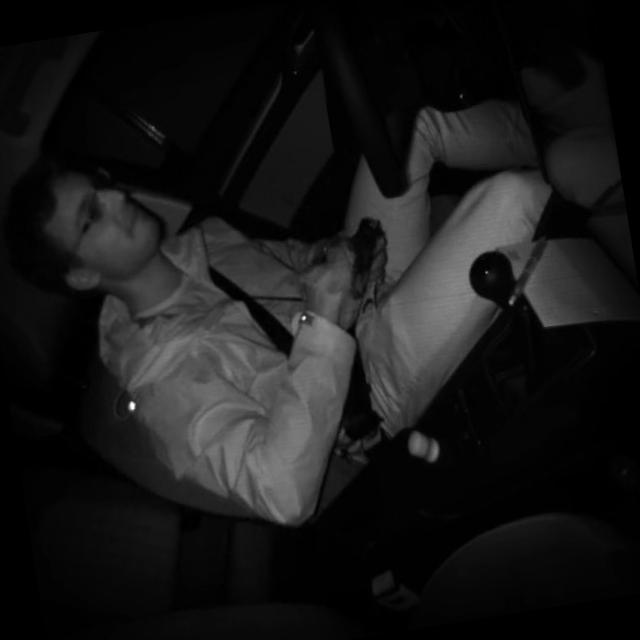pen: (495, 232, 560, 308)
